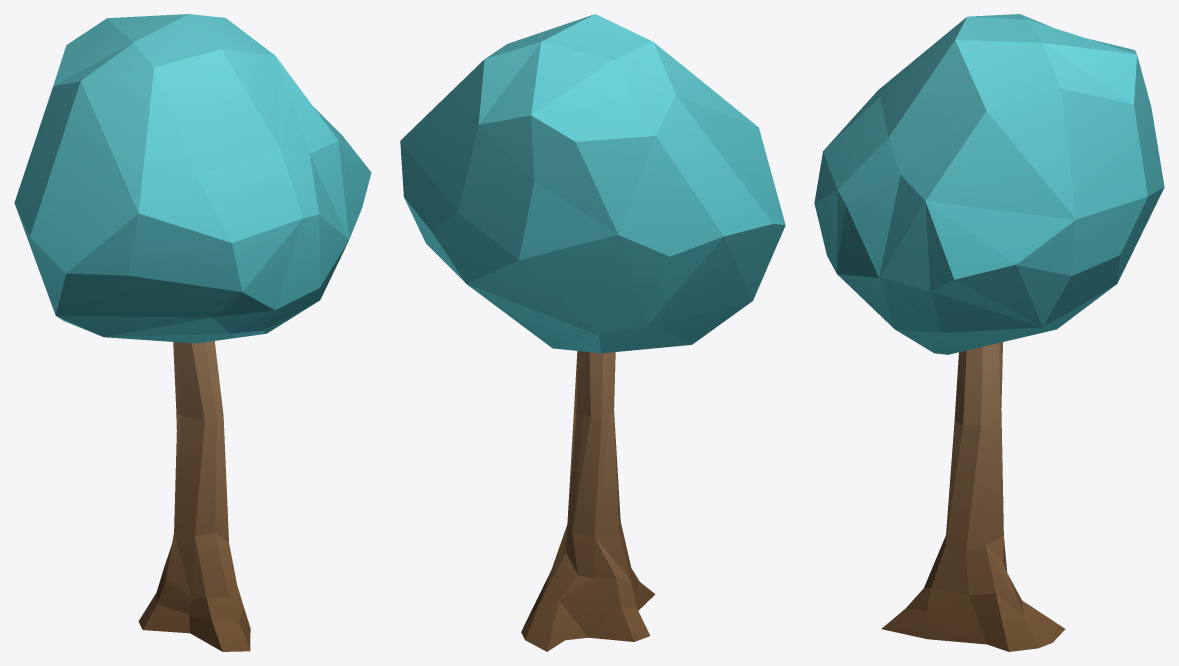
Rendered from Tree_Beech_Blue_01.fbx.
The picture shows the model from 3 angles, left to right: view 1: azimuth 30°, elevation 25°; view 2: azimuth 150°, elevation 25°; view 3: azimuth 270°, elevation 25°; orthographic projection. The views are drawn at different scales.
Parts seen in each view (by area): view 1: Tree_Beech_Blue; view 2: Tree_Beech_Blue; view 3: Tree_Beech_Blue.
Part boxes in pixels (bbox=[...]): Tree_Beech_Blue: bbox=[14, 14, 371, 651]; Tree_Beech_Blue: bbox=[400, 14, 785, 651]; Tree_Beech_Blue: bbox=[814, 14, 1164, 651].
Size of the model in its own units: 4.42 by 7.33 by 3.91.
